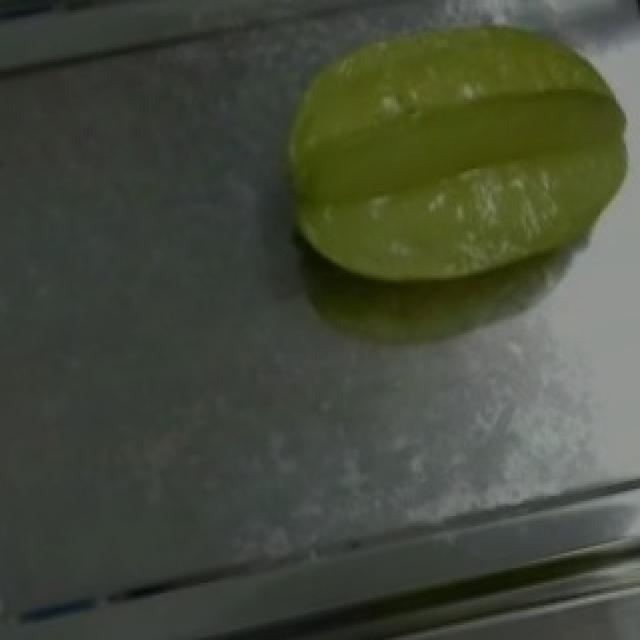fruit: (250, 0, 640, 337)
